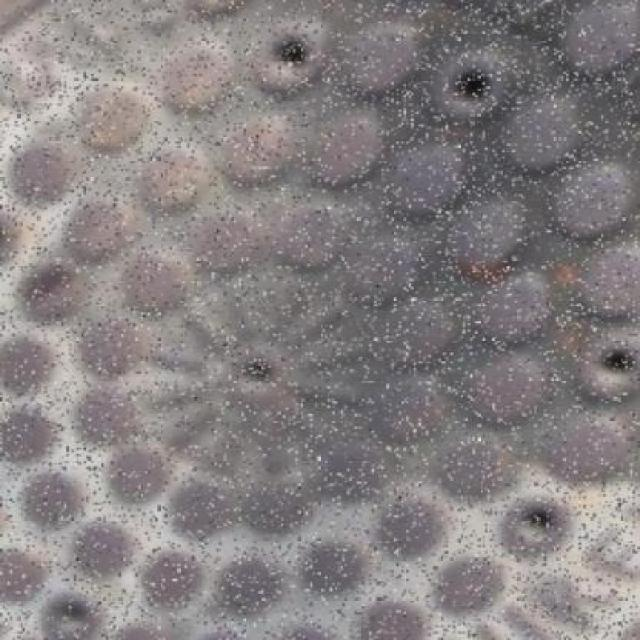Manhole: (1, 1, 634, 636)
